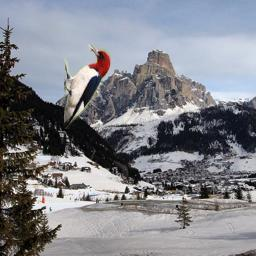Woodpecker: (64, 44, 111, 129)
